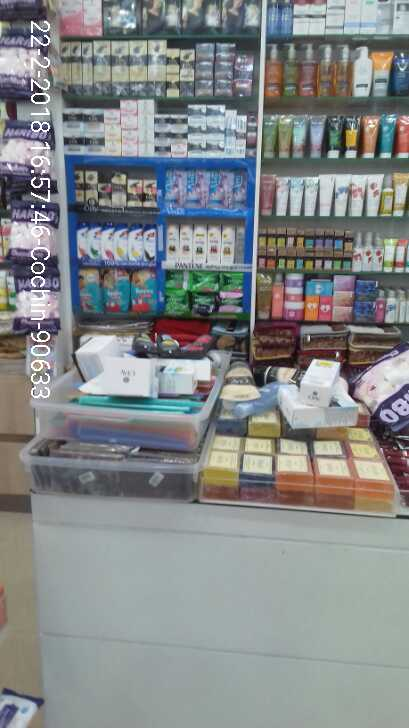venus: (164, 166, 186, 207), (206, 169, 227, 210), (227, 170, 247, 210), (186, 169, 206, 207)
